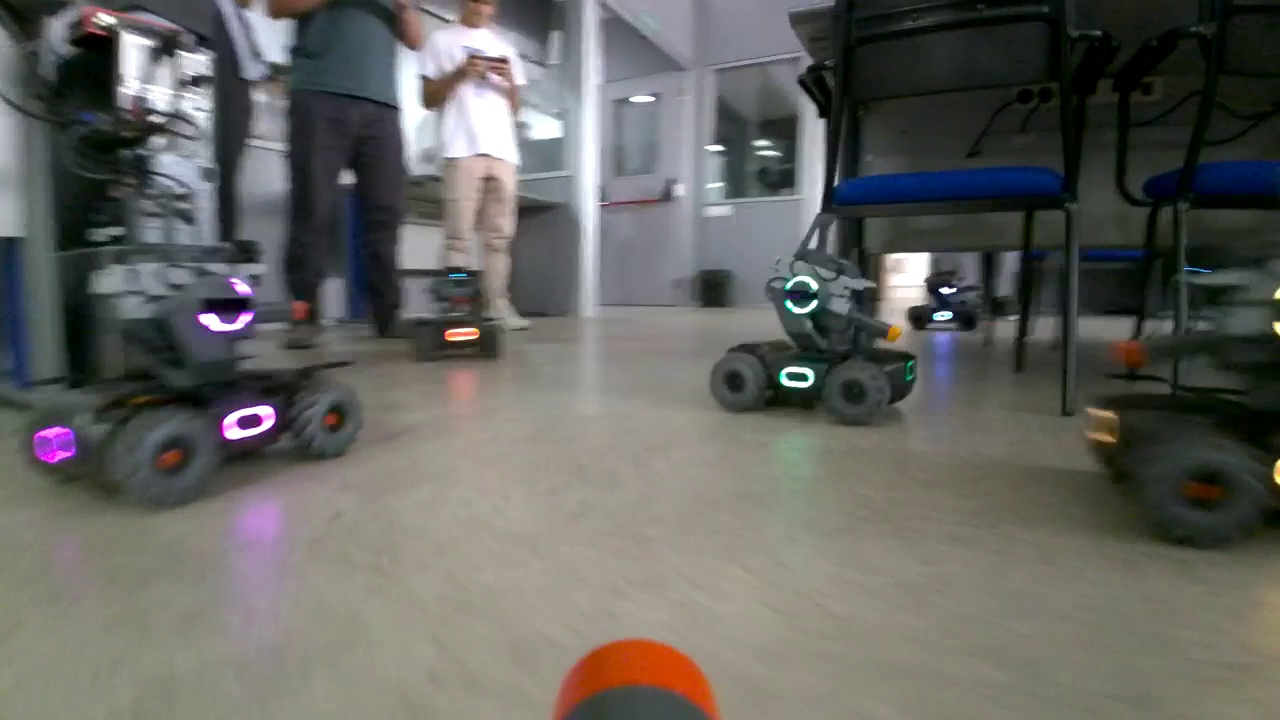robot: (29, 258, 365, 498), (1084, 268, 1280, 551), (706, 238, 922, 434), (402, 255, 504, 363), (912, 266, 981, 337)
